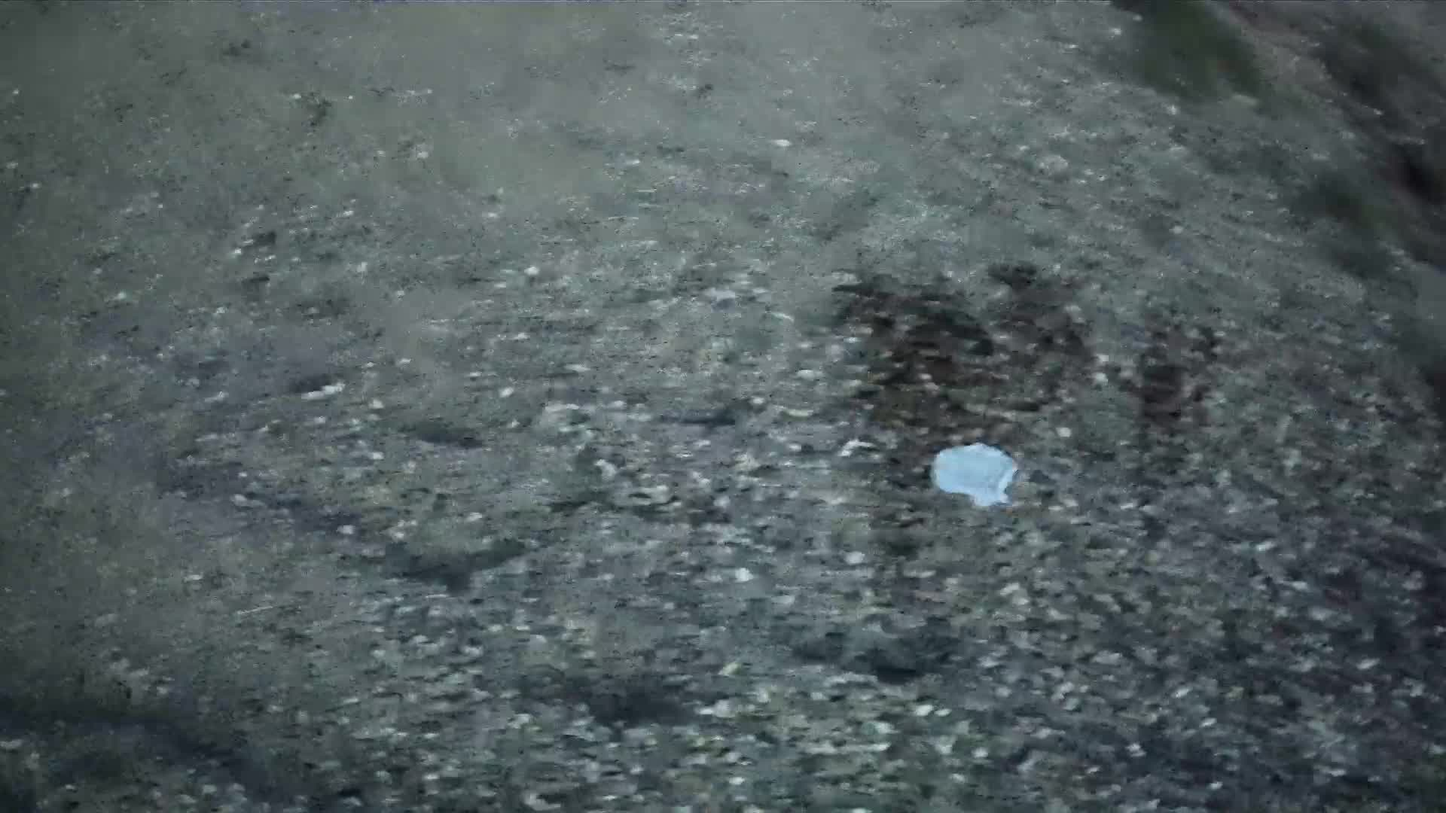Target: (929, 432, 1023, 510)
